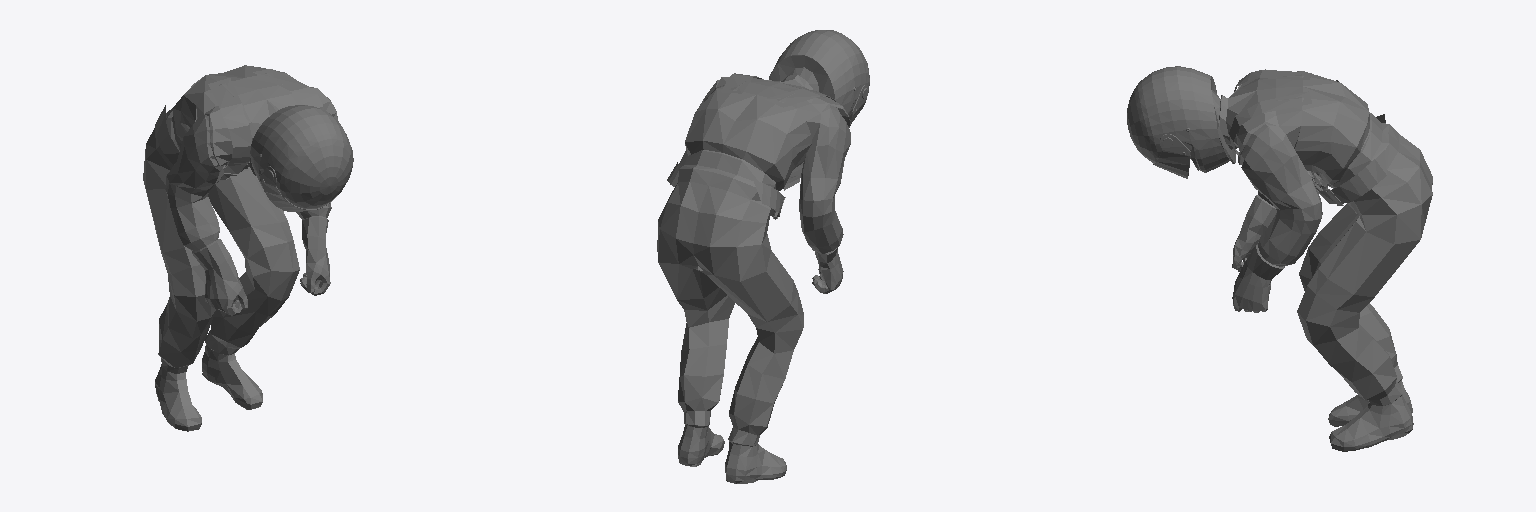
The model's file is GTR_Driver2.obj.
The picture shows the model from 3 angles: view 1: azimuth 30°, elevation 25°; view 2: azimuth 150°, elevation 25°; view 3: azimuth 270°, elevation 25°; orthographic projection.
Parts seen in each view (by area): view 1: GTR_Driver_only, Head, Shoes; view 2: GTR_Driver_only, Head, Shoes; view 3: GTR_Driver_only, Head, Shoes.
Part boxes in pixels (left/top/right/bottom): GTR_Driver_only: left=143, top=65, right=337, bottom=373; Head: left=250, top=105, right=353, bottom=211; Shoes: left=155, top=345, right=262, bottom=431; GTR_Driver_only: left=657, top=73, right=850, bottom=445; Head: left=769, top=30, right=869, bottom=123; Shoes: left=678, top=425, right=786, bottom=483; GTR_Driver_only: left=1221, top=69, right=1432, bottom=409; Head: left=1127, top=66, right=1237, bottom=178; Shoes: left=1328, top=380, right=1413, bottom=451.
Size of the model in its own units: 13.01 by 30.19 by 22.69.